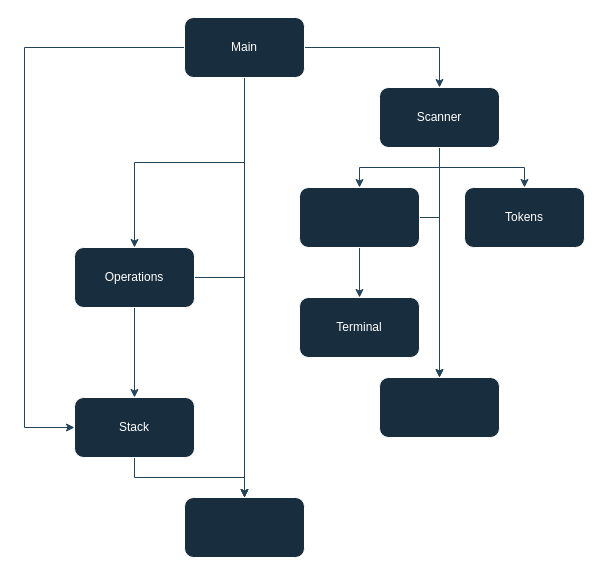
Image size: 602x575. Some labels were removed from this diagram. Each missing label, with the centre of its shape:
"Display" goes at point (359, 217).
"Errors" goes at point (244, 527).
"Keypad" goes at point (439, 407).
